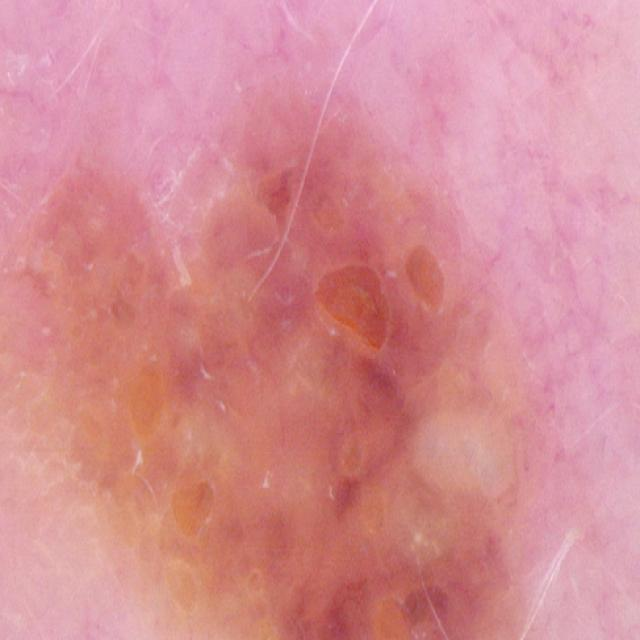Keratosis: (0, 57, 598, 640)
